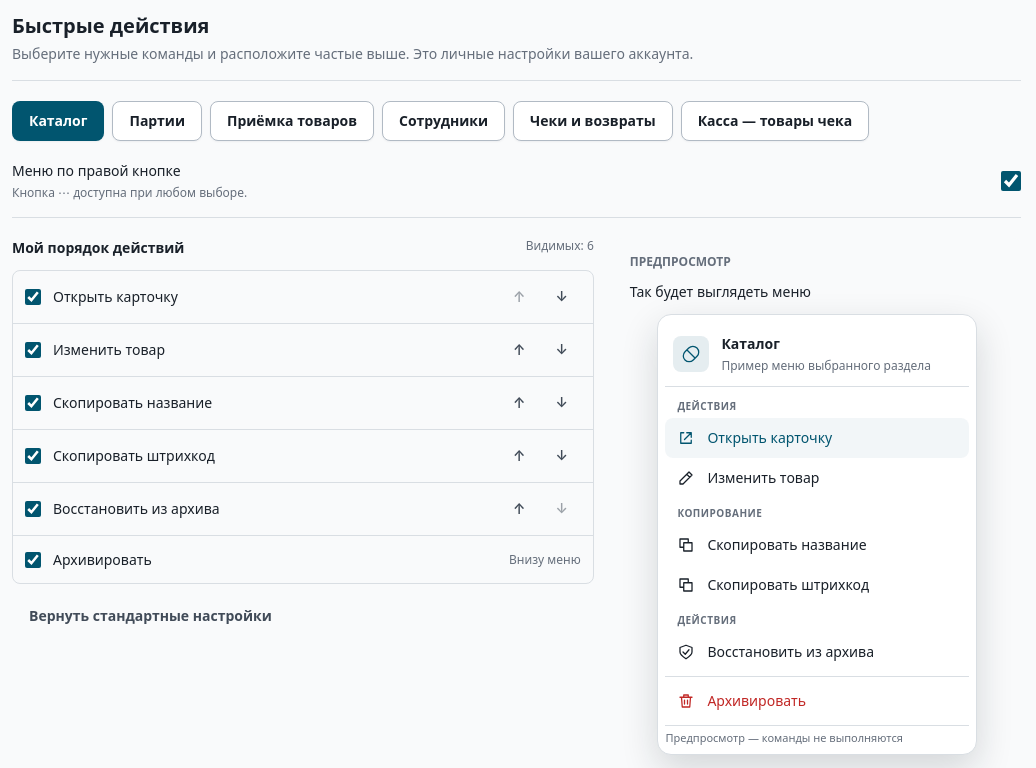
Test: QuickActionsSettingsPanel › switches independent sections without applying an abandoned draft
The width and height of the screenshot is (1036, 768).
Click the checkbox named "Меню по правой кнопке": (1011, 181) [1001,171,1021,191]
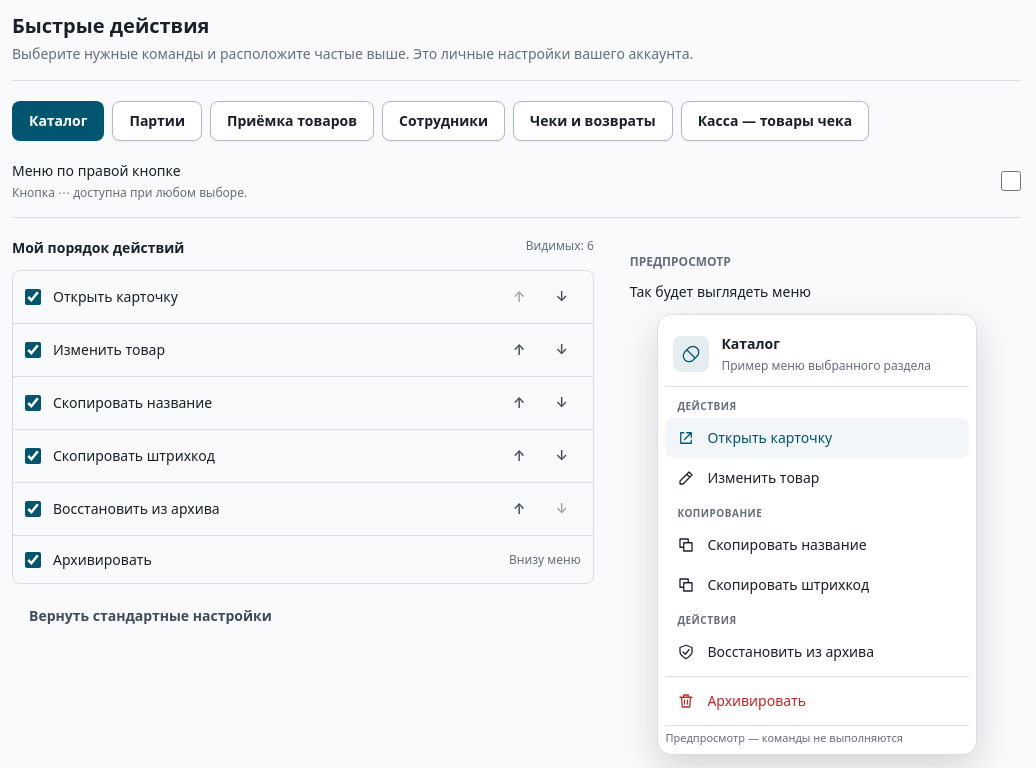
Click the button "Партии": (157, 121) [112,101,202,141]
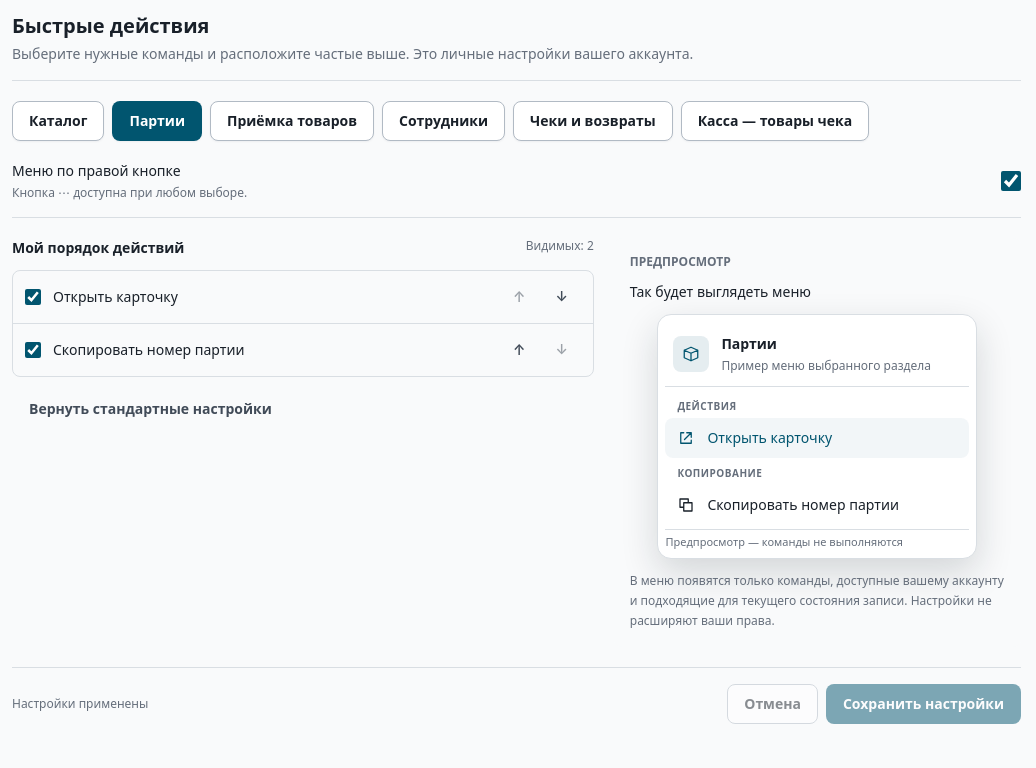
Expected: the checkbox named "Показывать в меню: Скопировать номер партии" is checked, [25,342,41,358]
Expected: the checkbox named "Меню по правой кнопке" is checked, [1001,171,1021,191]
Expected: the checkbox labelled "Показывать в меню: Архивировать" is gone
